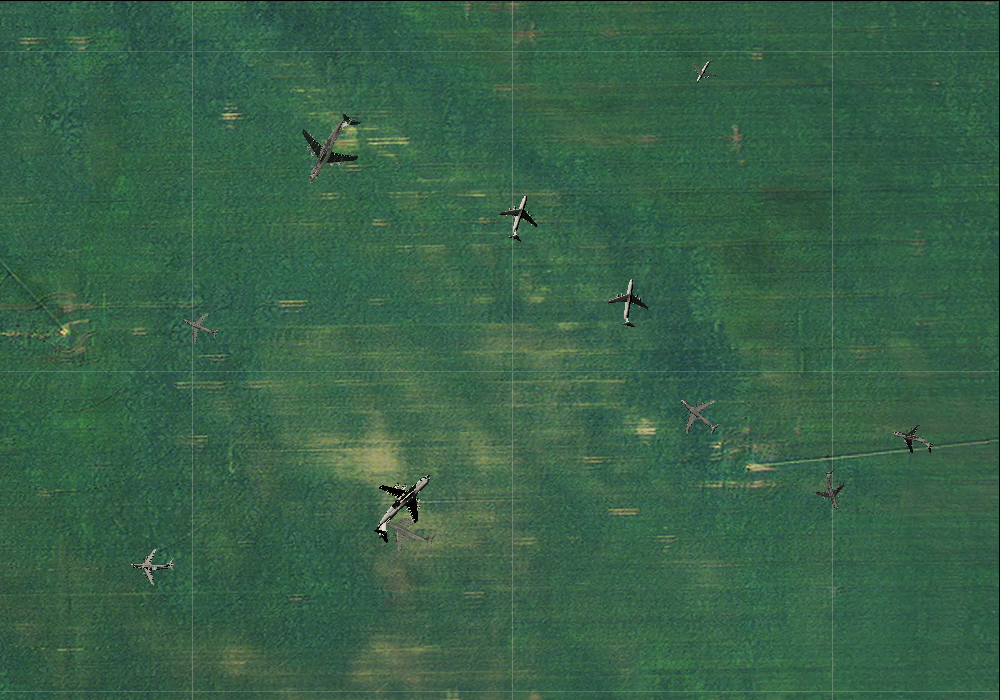plane: (351, 454, 456, 558), (280, 97, 380, 200), (370, 494, 445, 566), (667, 383, 731, 447), (491, 188, 548, 246), (603, 276, 655, 330), (175, 302, 224, 350), (809, 465, 856, 515), (888, 417, 938, 463), (128, 543, 175, 587), (685, 51, 722, 89)
